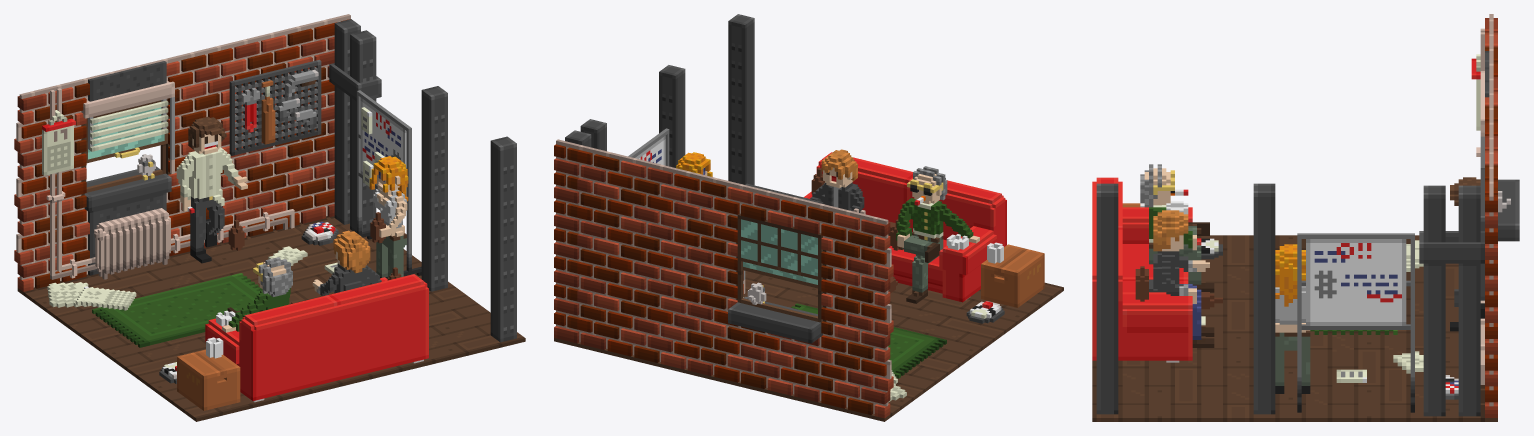
3 views of the same model, side by side, from view 1: azimuth 30°, elevation 25°; view 2: azimuth 150°, elevation 25°; view 3: azimuth 270°, elevation 25° (orthographic). The views are drawn at different scales.
Visible parts, largest first — view 1: Object_2; view 2: Object_2, Object_3; view 3: Object_2.
Part boxes in pixels (x1,y1,x2,y2): Object_2: (14, 14, 525, 421); Object_2: (554, 14, 1063, 421); Object_3: (554, 145, 817, 394); Object_2: (1092, 14, 1519, 421).
Size of the model in its own units: 100 by 57 by 98.
Materials: 1 (1 with a texture image).
